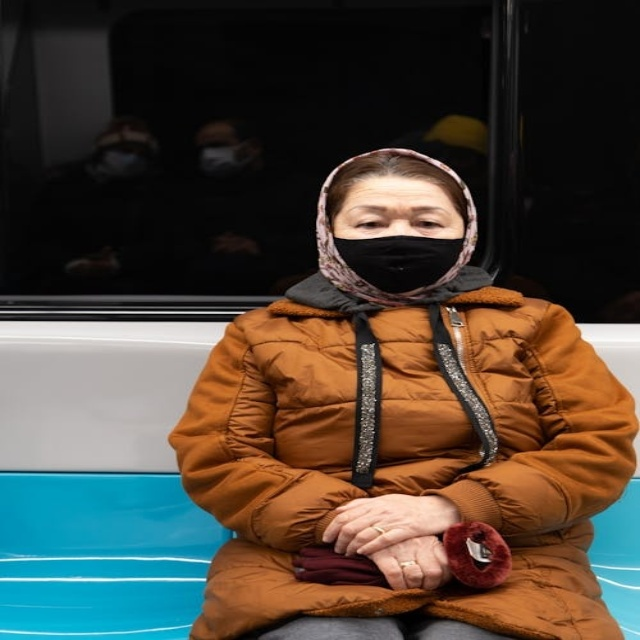Mascara: (325, 224, 474, 293), (197, 136, 266, 174), (93, 146, 145, 175)
Sin_gafas: (337, 201, 456, 232)
Sin_guantes: (315, 489, 460, 560), (362, 526, 457, 592)
